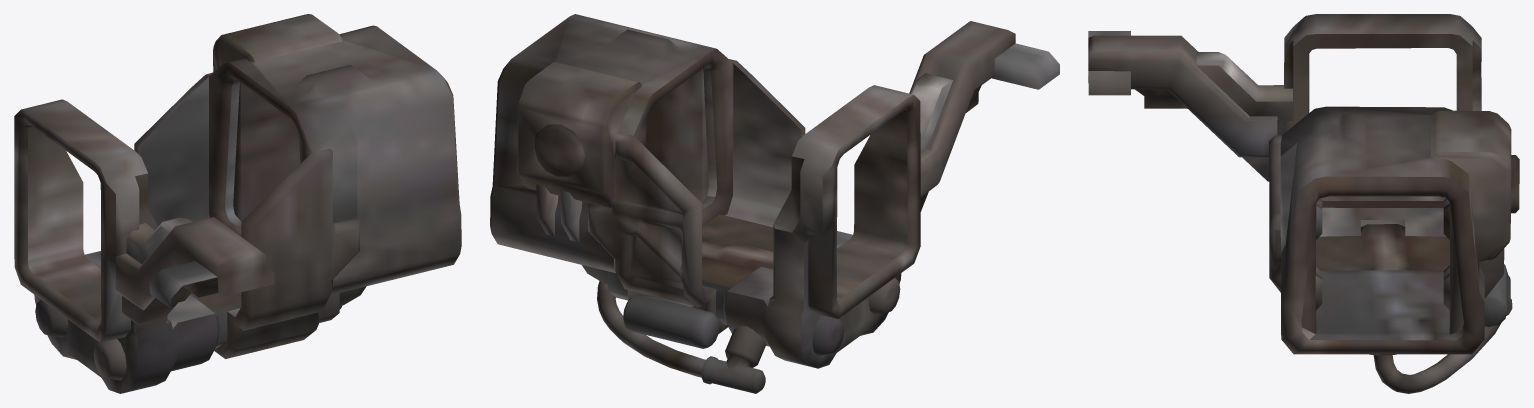
Rendered from HeavyWeapons_Vladof_Scope_2.obj.
3 views of the same model, side by side, from view 1: azimuth 30°, elevation 25°; view 2: azimuth 150°, elevation 25°; view 3: azimuth 270°, elevation 25° (orthographic). The views are drawn at different scales.
Visible parts, largest first — view 1: Scope_2_base_SK_HW_VLA.483; view 2: Scope_2_base_SK_HW_VLA.483, Scope_2_base_capacitor_SK_HW_VLA.484, Scope_2_base_feeder_sink_SK_HW_VLA.485, Scope_2_base_feeder_line_SK_HW_VLA.487; view 3: Scope_2_base_SK_HW_VLA.483, Scope_2_base_feeder_line_SK_HW_VLA.487, Scope_2_base_capacitor_SK_HW_VLA.484.
Boxes of the visible parts, bbox=[...] form: Scope_2_base_SK_HW_VLA.483: bbox=[14, 14, 461, 393]; Scope_2_base_SK_HW_VLA.483: bbox=[490, 14, 1059, 368]; Scope_2_base_capacitor_SK_HW_VLA.484: bbox=[623, 294, 719, 348]; Scope_2_base_feeder_sink_SK_HW_VLA.485: bbox=[701, 326, 766, 393]; Scope_2_base_feeder_line_SK_HW_VLA.487: bbox=[597, 281, 705, 377]; Scope_2_base_SK_HW_VLA.483: bbox=[1088, 14, 1519, 354]; Scope_2_base_feeder_line_SK_HW_VLA.487: bbox=[1373, 322, 1501, 393]; Scope_2_base_capacitor_SK_HW_VLA.484: bbox=[1484, 264, 1507, 327].
Size of the model in its own units: 15.25 by 10.15 by 14.81.
